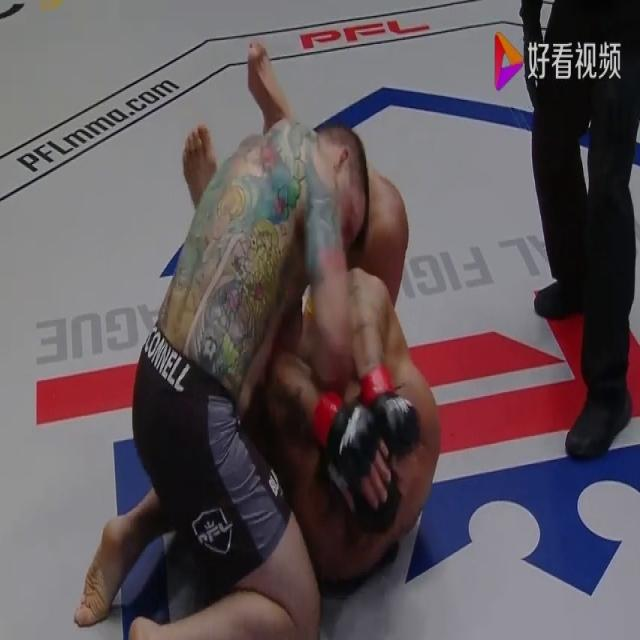fight: (50, 29, 456, 639)
